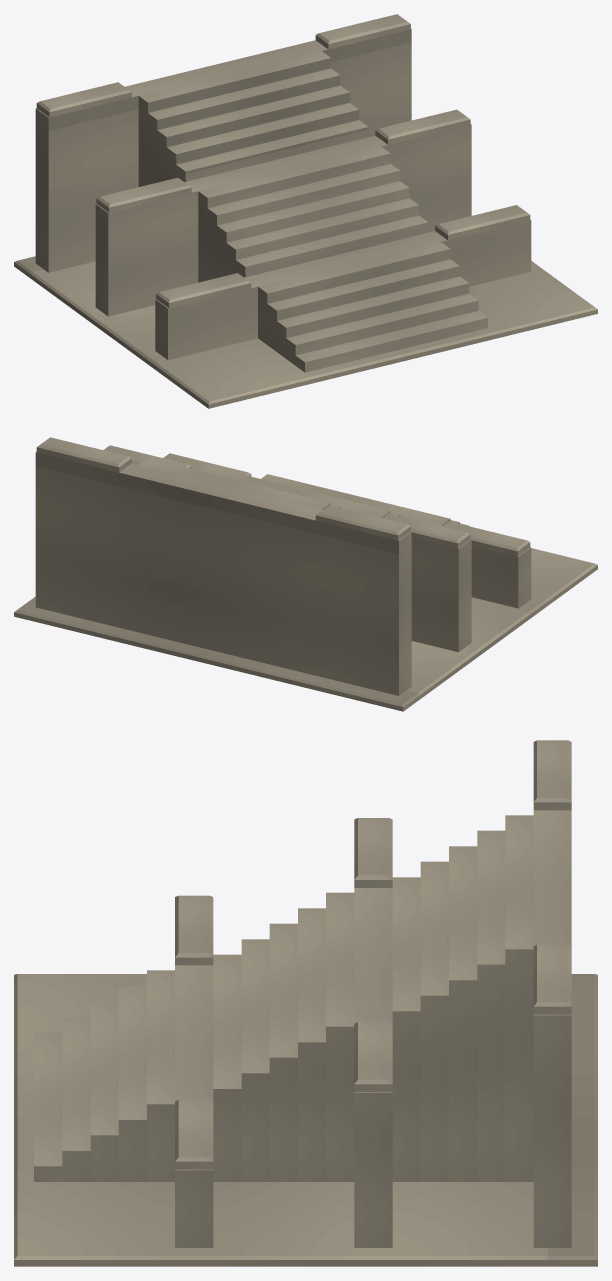
The model's file is yerevan.glb.
The picture shows the model from 3 angles, top to bottom: view 1: azimuth 30°, elevation 25°; view 2: azimuth 150°, elevation 25°; view 3: azimuth 270°, elevation 25°; orthographic projection. The views are drawn at different scales.
Parts seen in each view (by area): view 1: yerevan; view 2: yerevan; view 3: yerevan.
Boxes of the visible parts, left/top/right/bottom form: yerevan: left=14, top=14, right=597, bottom=408; yerevan: left=14, top=437, right=597, bottom=711; yerevan: left=14, top=740, right=597, bottom=1266.
Size of the model in its own units: 6.7 by 2.77 by 5.8.
1 material, 1 textured.
